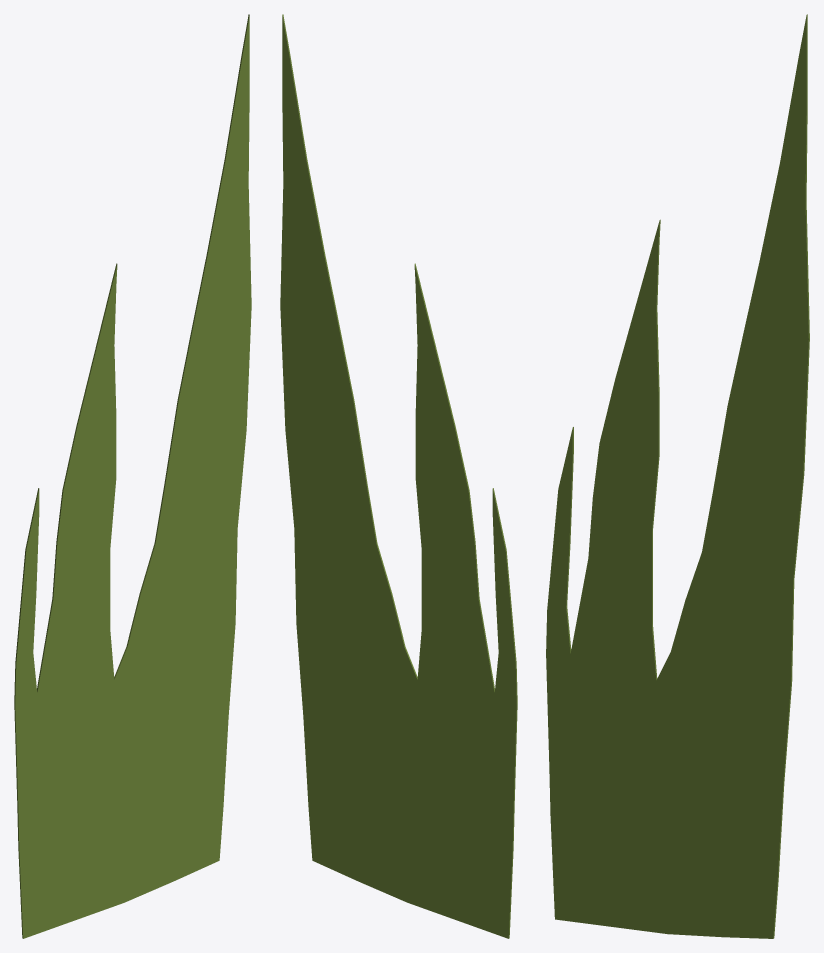
Rendered from tower.fbx_grass_005.fbx.
3 renders of one model, left to right at view 1: azimuth 30°, elevation 25°; view 2: azimuth 150°, elevation 25°; view 3: azimuth 330°, elevation 25°, orthographic. The views are drawn at different scales.
Parts seen in each view (by area): view 1: Vert.008; view 2: Vert.008; view 3: Vert.008.
Boxes of the visible parts, box(x1,y1,x2,y2) form: Vert.008: box(14, 14, 251, 938); Vert.008: box(280, 14, 517, 938); Vert.008: box(546, 14, 809, 938).
Bounding box in the file's own units: 137 × 482 × 1.
